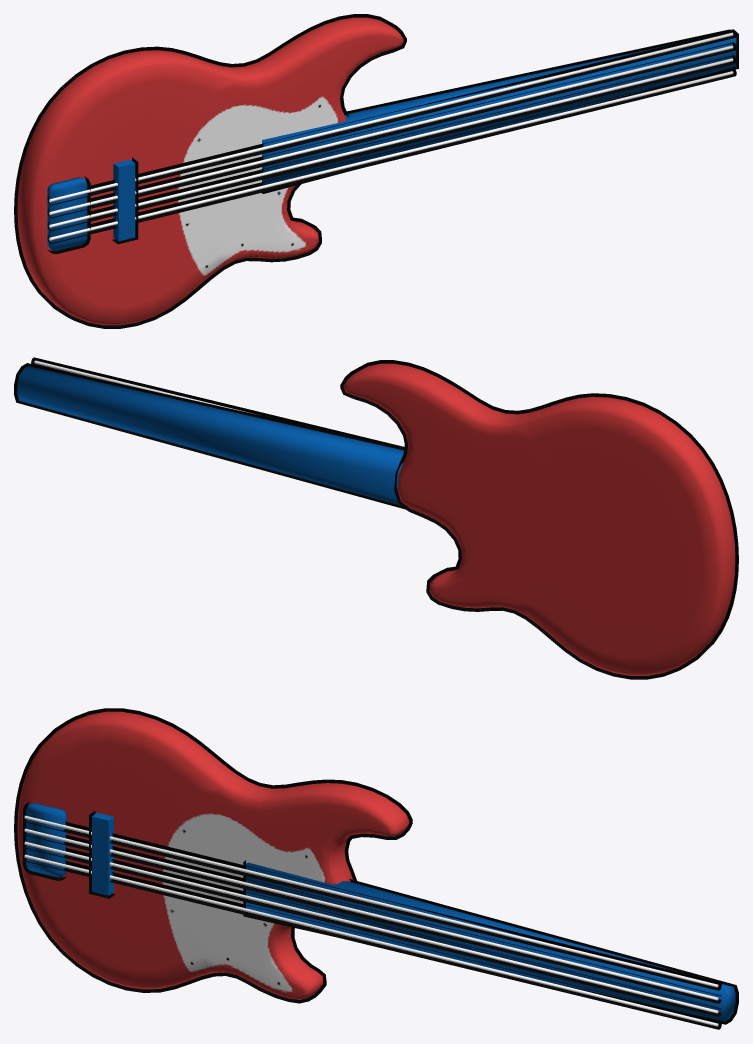
The model's file is Bajo.glb.
3 views of the same model, one above another, from view 1: azimuth 30°, elevation 25°; view 2: azimuth 150°, elevation 25°; view 3: azimuth 330°, elevation 25° (orthographic).
Visible parts, largest first — view 1: Base; view 2: Base; view 3: Base.
Boxes of the visible parts, x1=… form: Base: x1=14, y1=14, x2=738, y2=328; Base: x1=14, y1=357, x2=738, y2=679; Base: x1=14, y1=708, x2=738, y2=1029.
Bounding box in the file's own units: 20.03 × 7.25 × 1.25.
Materials: 4 (1 with a texture image).
